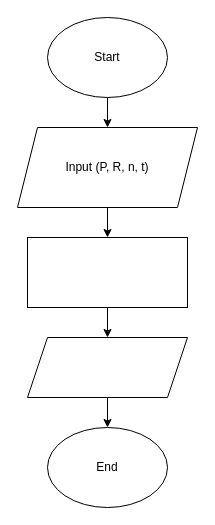
The diagram is 215 pixels wide and 525 high, and some of its shapes have lost their labels. Each missing label, with the box of its shape:
Output (Display C.I.): (26, 336, 188, 398)
Process (A=P(1+(R/n)^(nt)): (26, 236, 188, 308)
